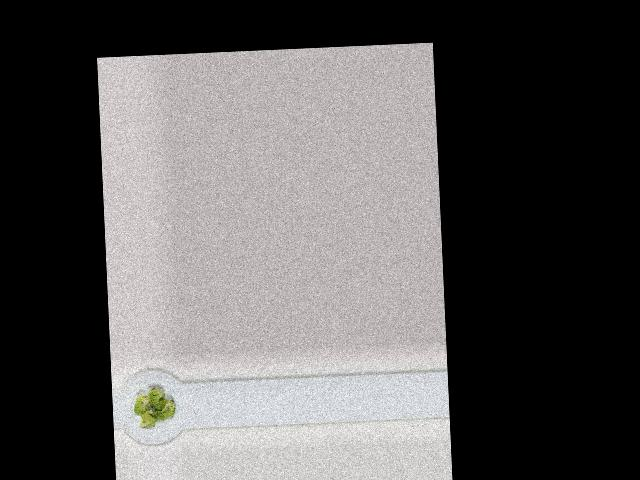lettuce: (133, 384, 180, 429)
